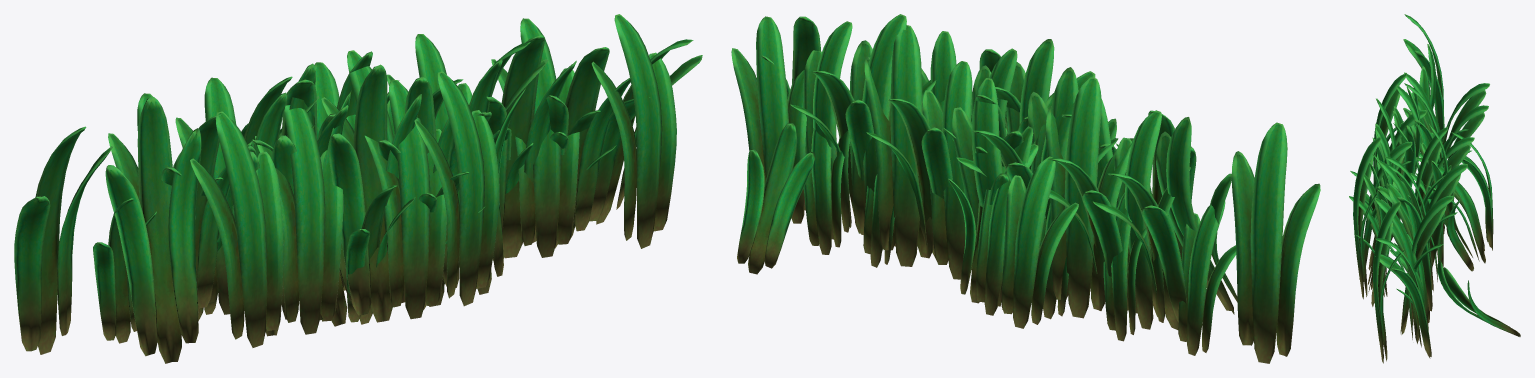
Rendered from grass_03a.fbx.
The picture shows the model from 3 angles, left to right: view 1: azimuth 30°, elevation 25°; view 2: azimuth 150°, elevation 25°; view 3: azimuth 270°, elevation 25°; orthographic projection. The views are drawn at different scales.
Visible parts, largest first — view 1: pPlane86.002; view 2: pPlane86.002; view 3: pPlane86.002.
Part boxes in pixels (<box>): pPlane86.002: <box>14,14,702,363</box>; pPlane86.002: <box>731,14,1320,363</box>; pPlane86.002: <box>1349,14,1520,363</box>.
Size of the model in its own units: 883 by 290 by 336.
